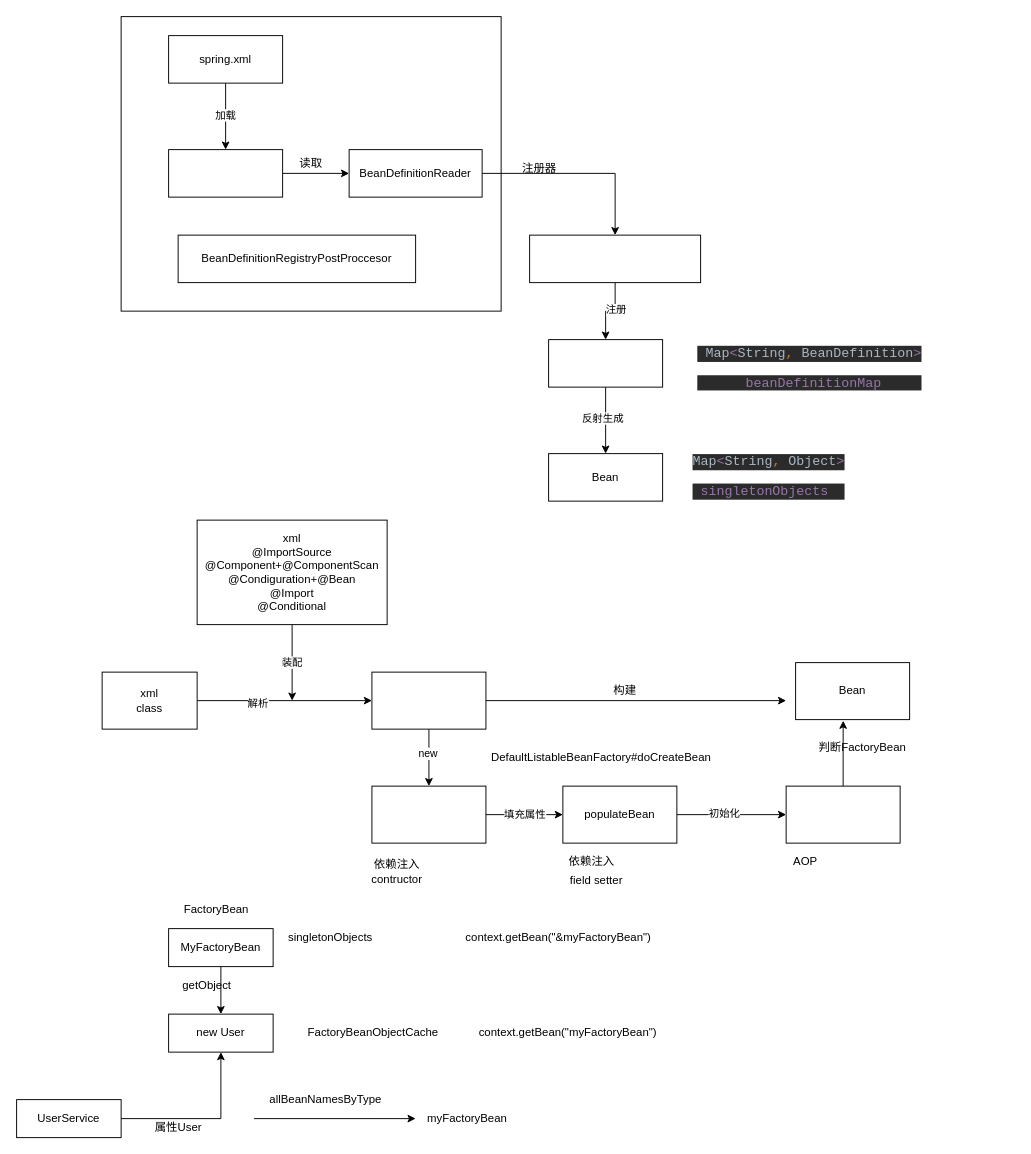
The diagram is 1031 pixels wide and 1154 high, and some of its shapes have lost their labels. Each missing label, with the centre of its shape:
"BeanDefinition" goes at (428,700).
"BeanDefinitionRegistry" goes at (615,258).
"BeanDeinition" goes at (605,363).
"createBeanInstance" goes at (428,814).
"initiallizeBean" goes at (842,814).
"Resource" goes at (225,173).
